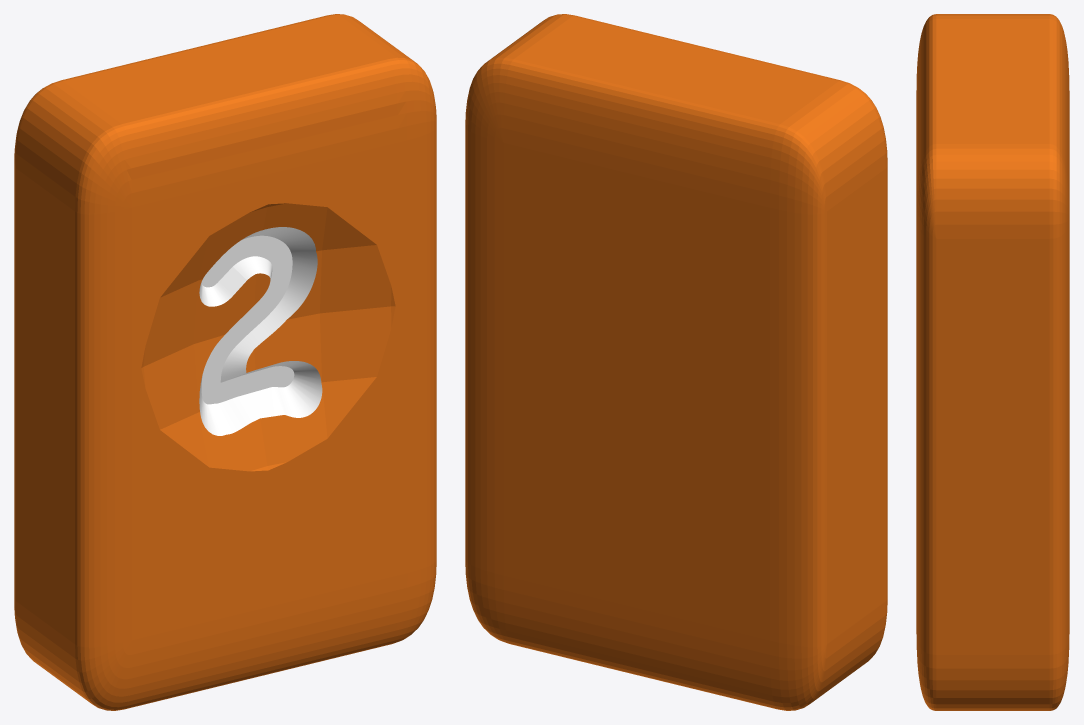
Rendered from Rummikub Card 2.FBX.
The picture shows the model from 3 angles, left to right: view 1: azimuth 30°, elevation 25°; view 2: azimuth 150°, elevation 25°; view 3: azimuth 270°, elevation 25°; orthographic projection. The views are drawn at different scales.
Visible parts, largest first — view 1: CardModel; view 2: CardModel; view 3: CardModel.
Part boxes in pixels (x1,y1,x2,y2): CardModel: (14,14,436,710); CardModel: (465,14,887,710); CardModel: (916,14,1069,710).
Bounding box in the file's own units: 44.87 × 69.66 × 17.19.
